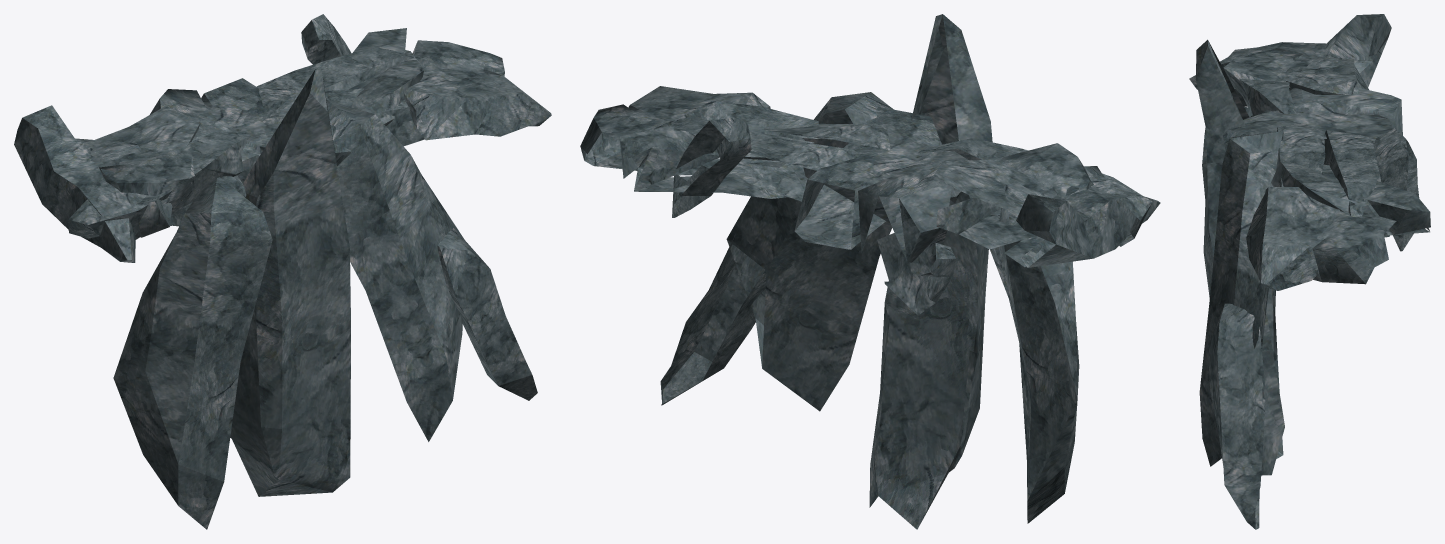
File: FloatPiece2.fbx
The picture shows the model from 3 angles, left to right: view 1: azimuth 30°, elevation 25°; view 2: azimuth 150°, elevation 25°; view 3: azimuth 270°, elevation 25°; orthographic projection. The views are drawn at different scales.
Visible parts, largest first — view 1: ElevatedPiece2; view 2: ElevatedPiece2; view 3: ElevatedPiece2.
Part boxes in pixels (left/top/right/bottom): ElevatedPiece2: left=14, top=14, right=551, bottom=529; ElevatedPiece2: left=580, top=14, right=1160, bottom=529; ElevatedPiece2: left=1189, top=14, right=1430, bottom=529.
Bounding box in the file's own units: 12.54 × 11.24 × 5.82.
